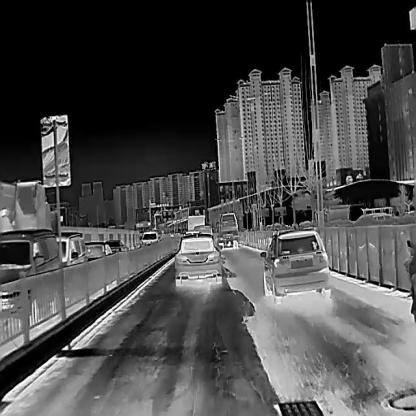bus: (187, 214, 205, 230)
car: (0, 226, 60, 323), (260, 227, 330, 295), (174, 233, 221, 286), (57, 231, 85, 267), (84, 240, 112, 258), (105, 239, 127, 253), (139, 230, 159, 244)
truck: (214, 212, 238, 249)
